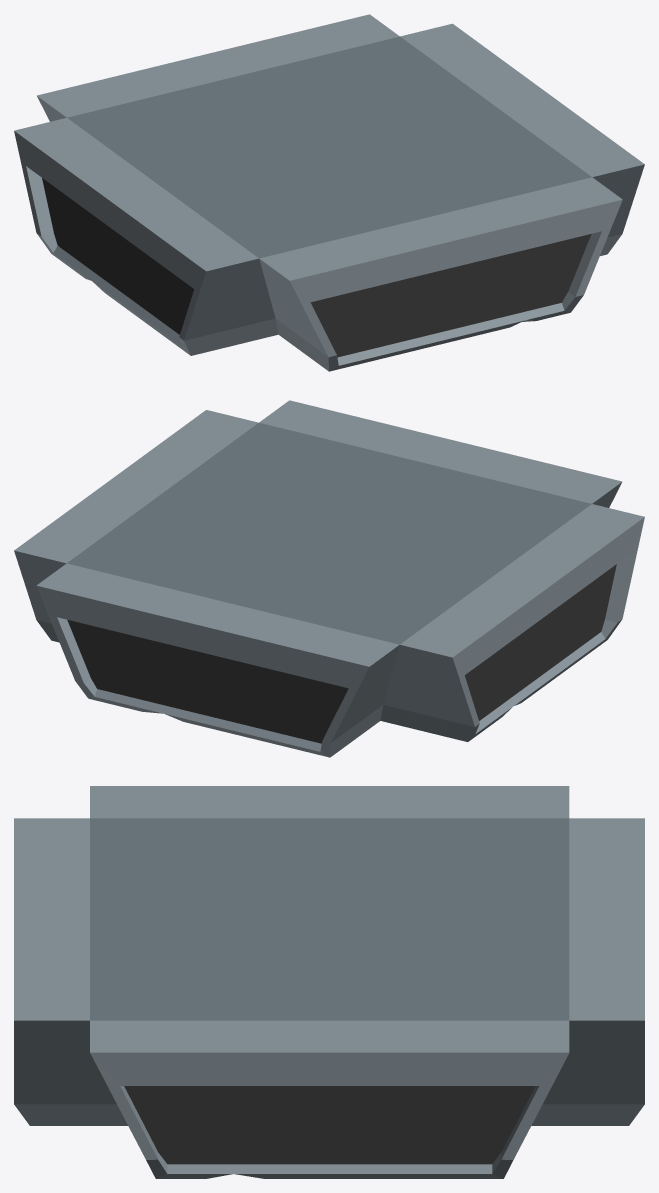
File: SM_Bld_Ceiling_Pipe_Junction_01.fbx
3 renders of one model, top to bottom at view 1: azimuth 30°, elevation 25°; view 2: azimuth 150°, elevation 25°; view 3: azimuth 270°, elevation 25°, orthographic. The views are drawn at different scales.
Parts seen in each view (by area): view 1: SM_Bld_Ceiling_Pipe_Junction_01; view 2: SM_Bld_Ceiling_Pipe_Junction_01; view 3: SM_Bld_Ceiling_Pipe_Junction_01.
Part boxes in pixels (x1=…): SM_Bld_Ceiling_Pipe_Junction_01: x1=14, y1=14, x2=644, y2=371; SM_Bld_Ceiling_Pipe_Junction_01: x1=14, y1=400, x2=644, y2=757; SM_Bld_Ceiling_Pipe_Junction_01: x1=14, y1=786, x2=644, y2=1178.
Bounding box in the file's own units: 530 × 125 × 530.
Materials: 1 (1 with a texture image).
